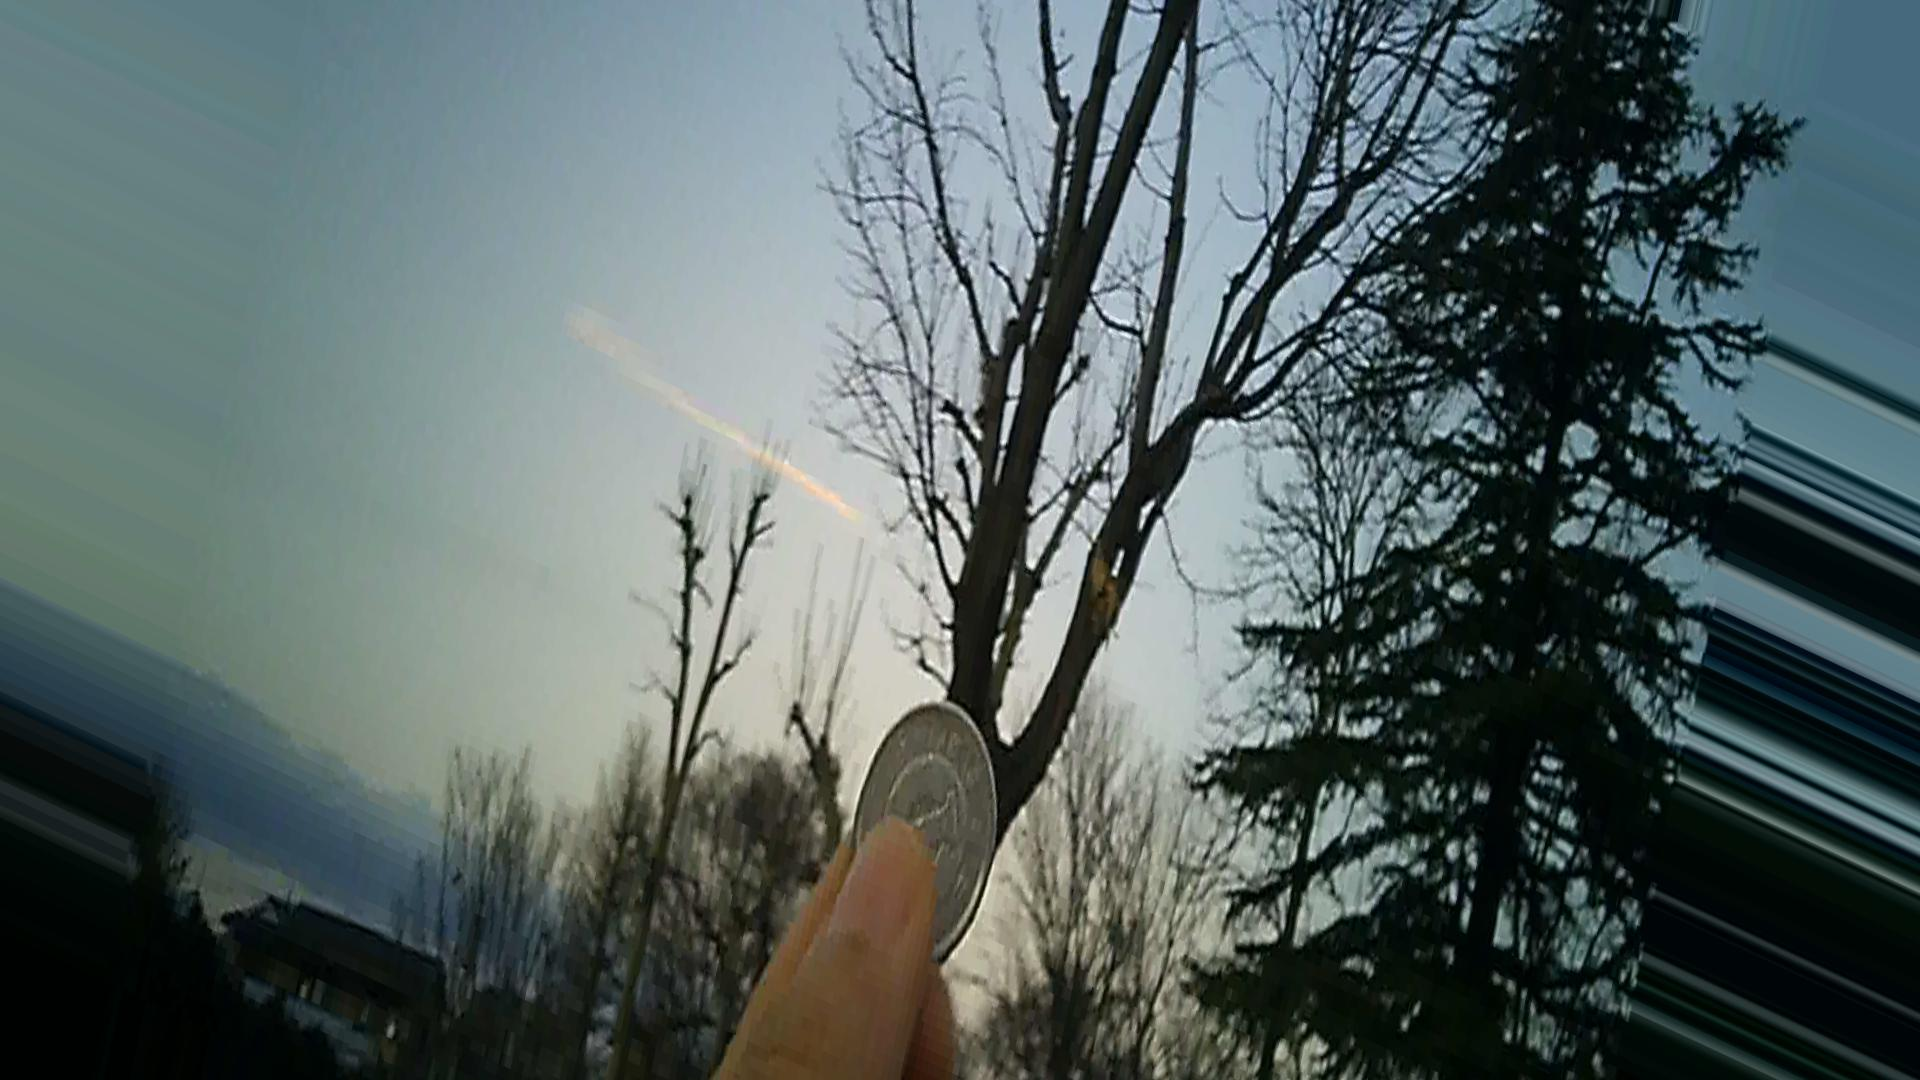1 Yen: (843, 698, 1014, 981)
